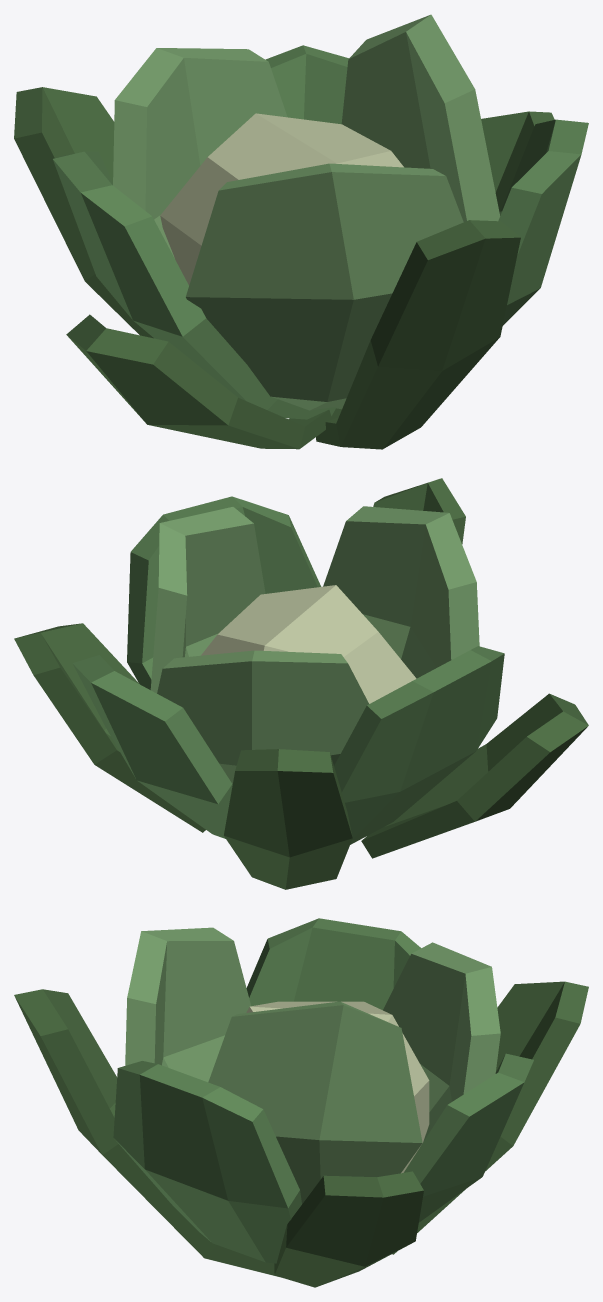
Rendered from SM_Env_Plant_Cabbage_01.fbx.
3 renders of one model, top to bottom at view 1: azimuth 30°, elevation 25°; view 2: azimuth 150°, elevation 25°; view 3: azimuth 270°, elevation 25°, orthographic. The views are drawn at different scales.
Parts seen in each view (by area): view 1: SM_Env_Plant_Cabbage_01; view 2: SM_Env_Plant_Cabbage_01; view 3: SM_Env_Plant_Cabbage_01.
Boxes of the visible parts, bbox=[...] form: SM_Env_Plant_Cabbage_01: bbox=[14, 14, 588, 449]; SM_Env_Plant_Cabbage_01: bbox=[14, 478, 588, 889]; SM_Env_Plant_Cabbage_01: bbox=[14, 918, 588, 1287].
Size of the model in its own units: 36.18 by 22.7 by 36.7.
